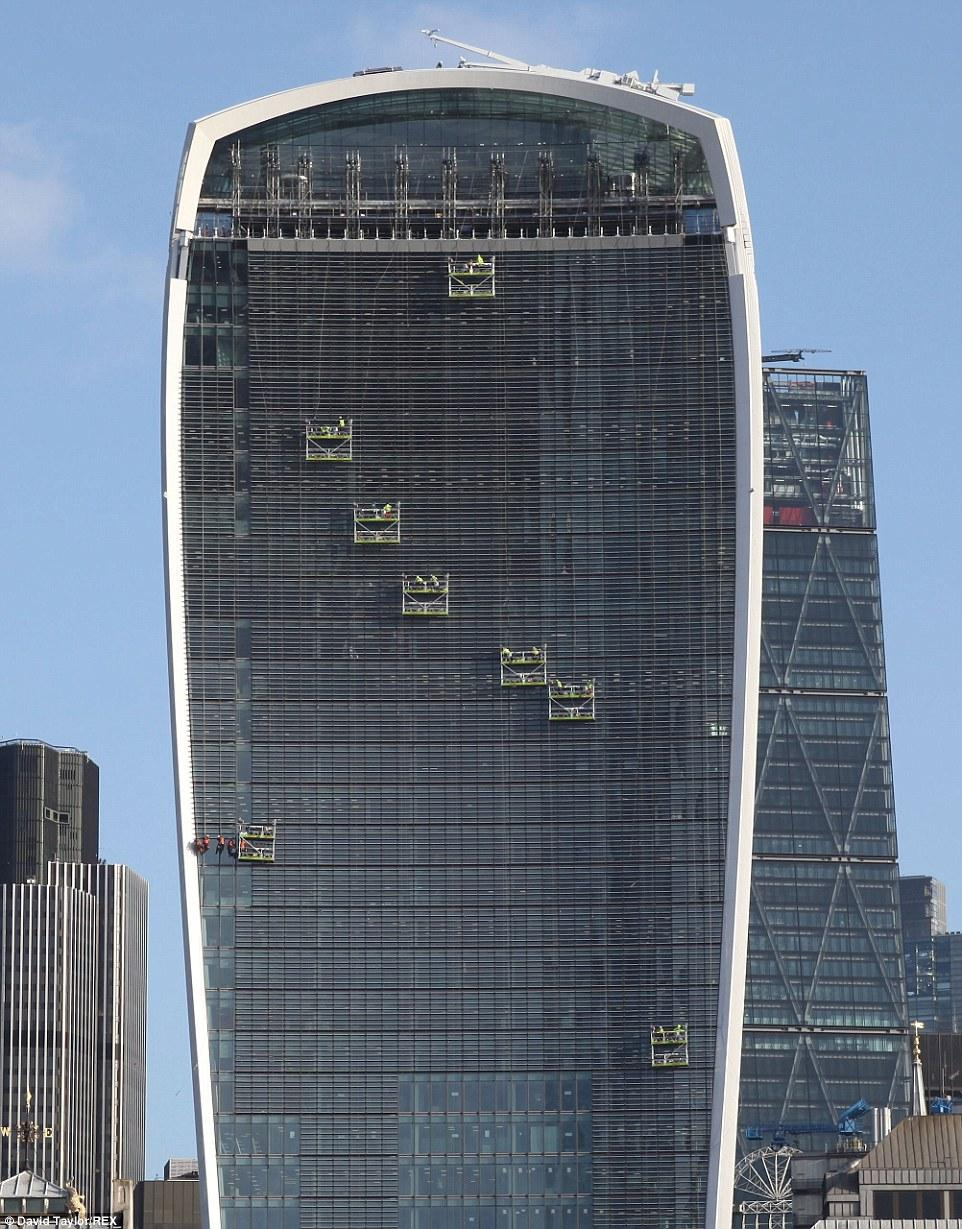Walkie talkie: (133, 39, 787, 1173)
